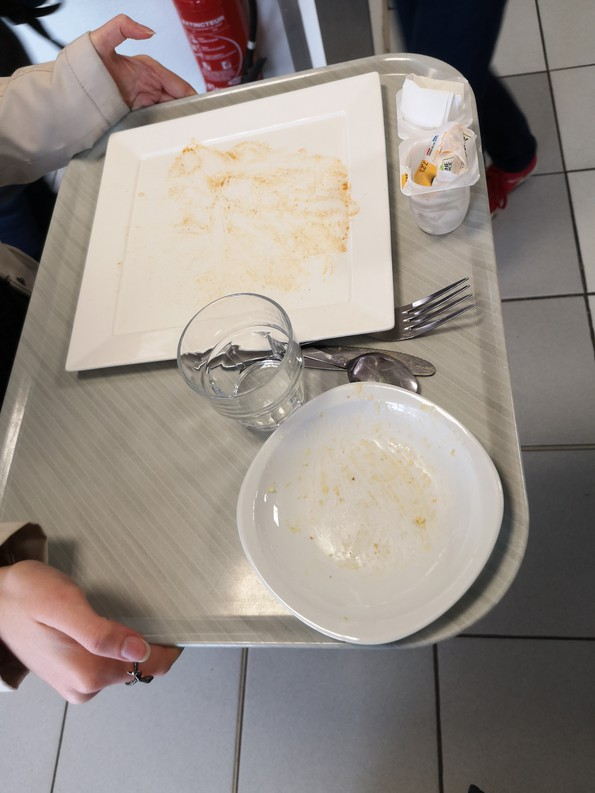cup: (158, 295, 312, 441)
cutlery: (285, 267, 487, 392)
trash: (385, 72, 477, 226)
